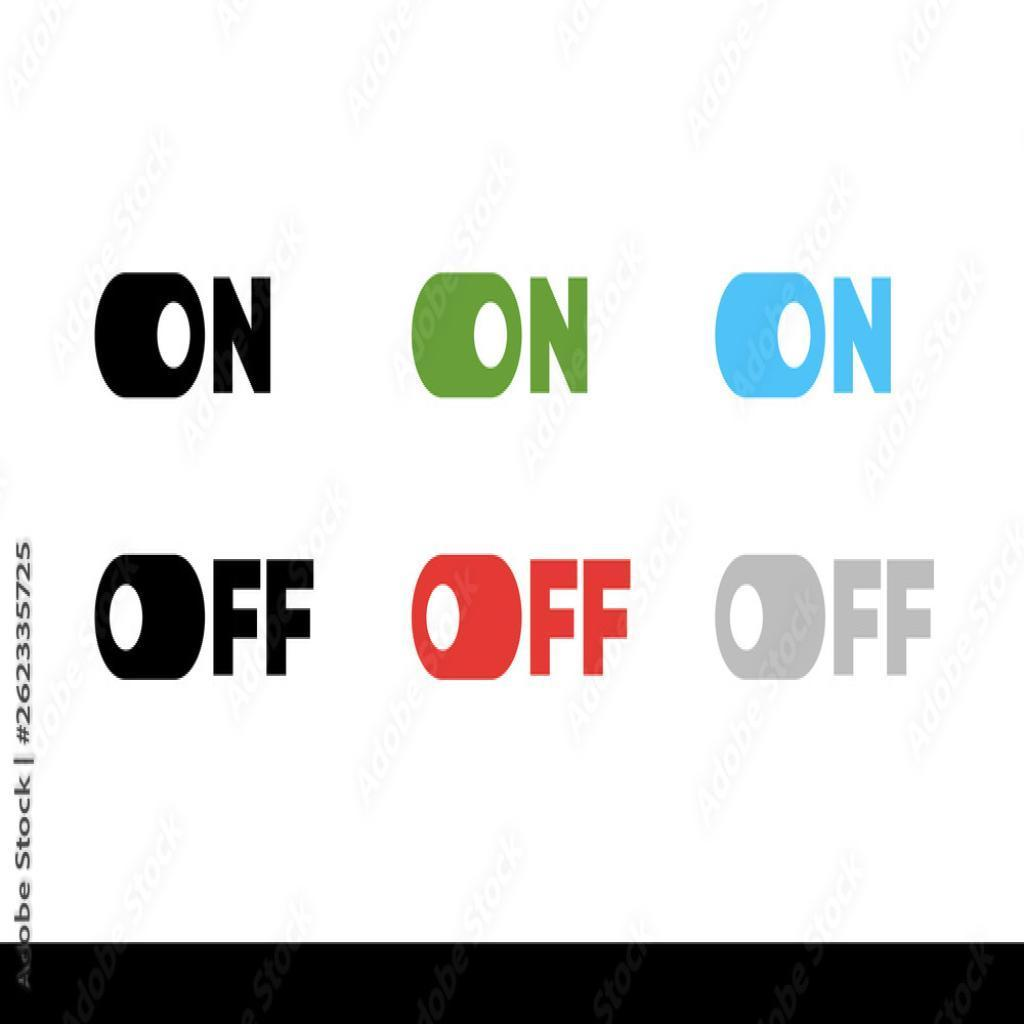switch: (89, 544, 207, 690), (89, 268, 209, 409), (409, 266, 525, 409), (715, 544, 828, 689), (413, 548, 527, 690), (712, 270, 826, 402)
